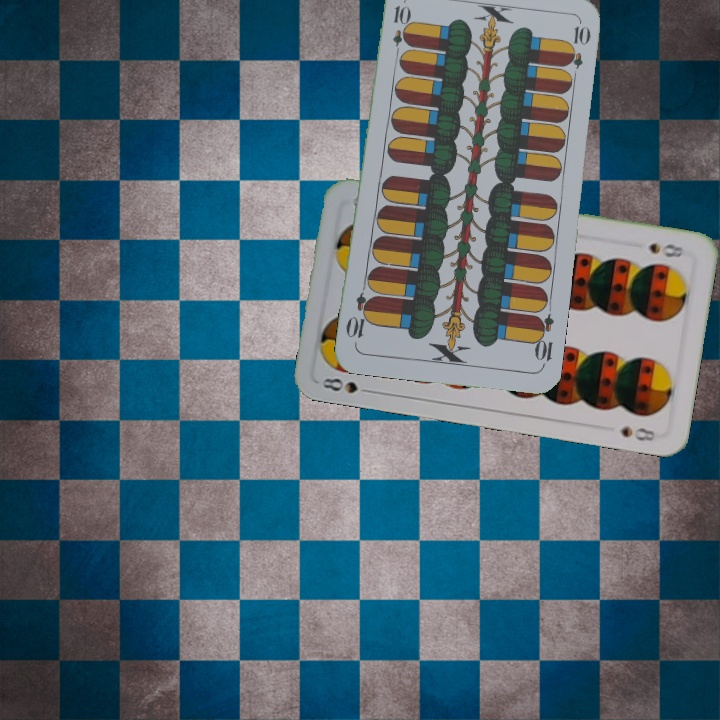E10: (529, 311, 556, 370), (388, 1, 409, 61)
S8: (318, 374, 376, 396), (645, 238, 688, 260)
